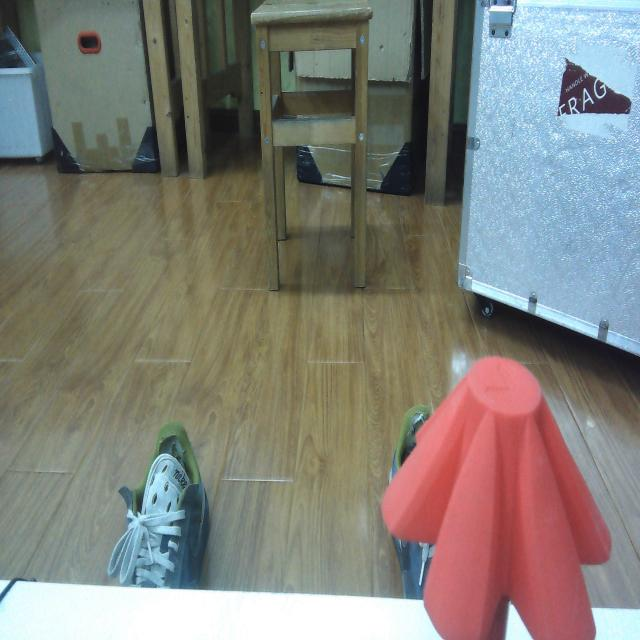zred-Stake-Head: (382, 356, 612, 639)
